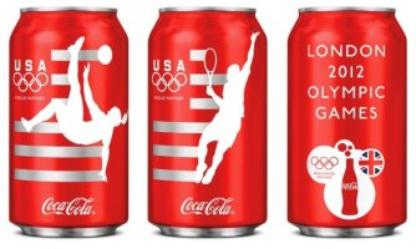Can: (284, 5, 410, 238), (145, 7, 269, 237), (9, 6, 131, 238)
